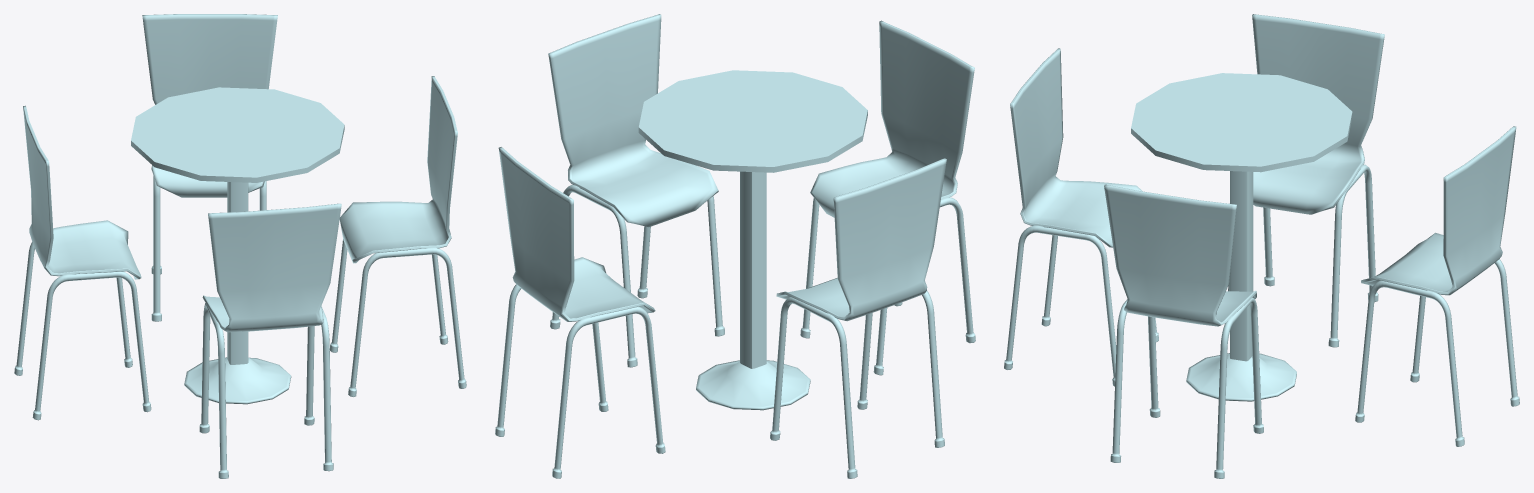
File: fries_Shop_Table_Yellow.fbx
3 renders of one model, left to right at view 1: azimuth 30°, elevation 25°; view 2: azimuth 150°, elevation 25°; view 3: azimuth 270°, elevation 25°, orthographic. The views are drawn at different scales.
Visible parts, largest first — view 1: Table01, Yellow_Chair04, Yellow_Chair02, Yellow_Chair01, Yellow_Chair03; view 2: Table01, Yellow_Chair01, Yellow_Chair03, Yellow_Chair04, Yellow_Chair02; view 3: Table01, Yellow_Chair01, Yellow_Chair03, Yellow_Chair02, Yellow_Chair04.
Boxes of the visible parts, x1=… form: Table01: x1=131, y1=87, x2=344, y2=404; Yellow_Chair04: x1=199, y1=203, x2=341, y2=478; Yellow_Chair02: x1=142, y1=14, x2=277, y2=321; Yellow_Chair01: x1=329, y1=76, x2=466, y2=396; Yellow_Chair03: x1=14, y1=105, x2=151, y2=420; Table01: x1=638, y1=70, x2=867, y2=410; Yellow_Chair01: x1=548, y1=14, x2=724, y2=367; Yellow_Chair03: x1=770, y1=158, x2=946, y2=478; Yellow_Chair04: x1=800, y1=20, x2=975, y2=375; Yellow_Chair02: x1=495, y1=147, x2=665, y2=478; Table01: x1=1131, y1=73, x2=1352, y2=401; Yellow_Chair01: x1=1104, y1=184, x2=1263, y2=478; Yellow_Chair03: x1=1228, y1=14, x2=1384, y2=347; Yellow_Chair02: x1=1355, y1=126, x2=1519, y2=446; Yellow_Chair04: x1=1004, y1=48, x2=1158, y2=386.
Bounding box in the file's own units: 1.66 × 1.07 × 1.84.
